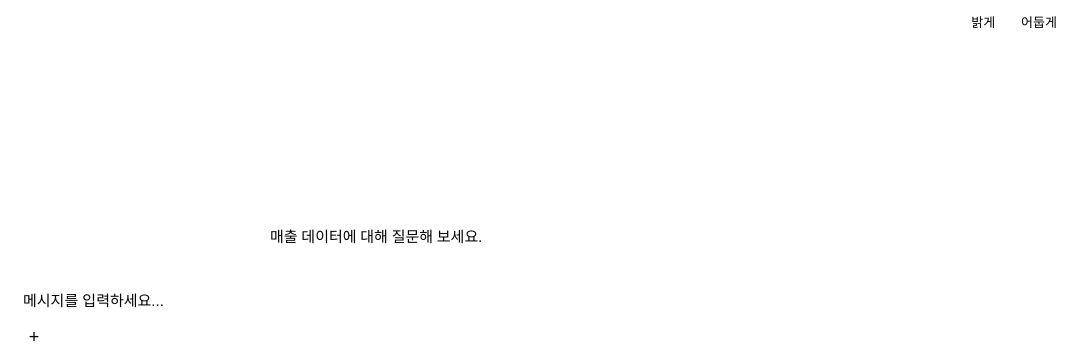
Test: Chat - 이메일 발송 버튼 › 200 성공 시 성공 상태로 전환된다
Type "질문" into the field with placeholder "메시지를 입력하세요..." at point(379, 300), box [19,288,739,313]
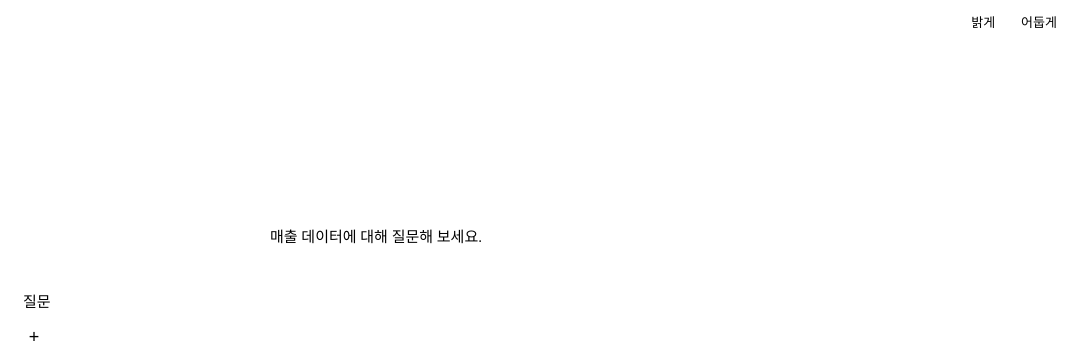
Press Enter in the field with placeholder "메시지를 입력하세요...", box [19,288,739,313]
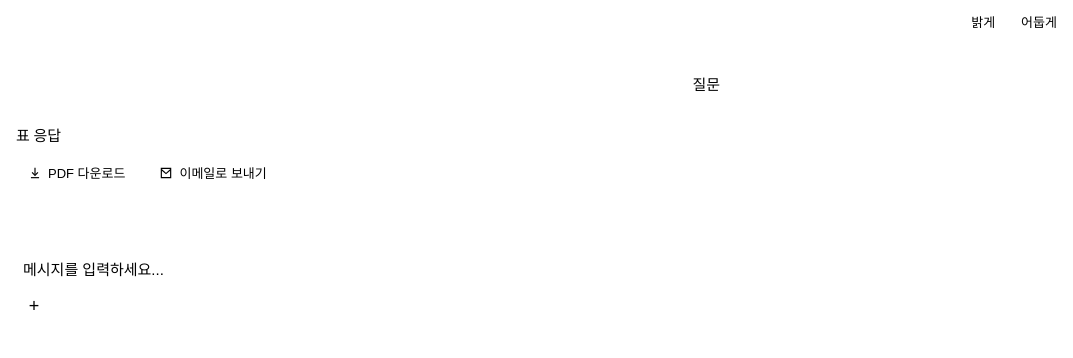
Click the button "이메일로 보내기" at point(213, 172), box [148,158,279,187]
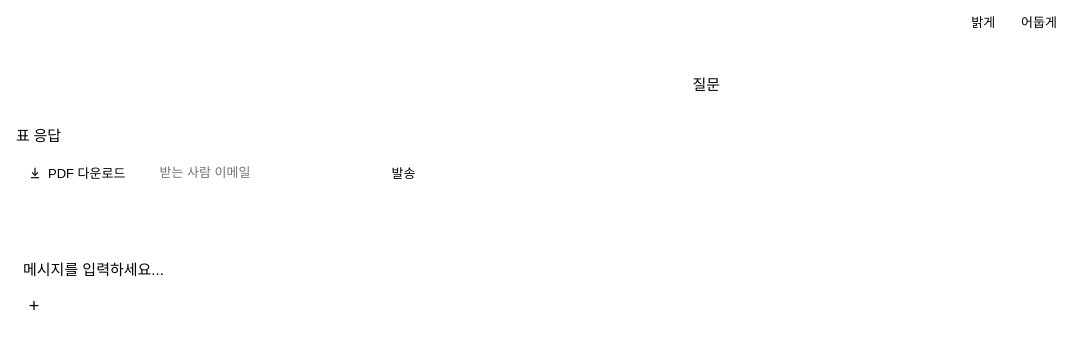
Type "user@company.com" into the field with placeholder "받는 사람 이메일" at point(260, 172), box [148,160,372,185]
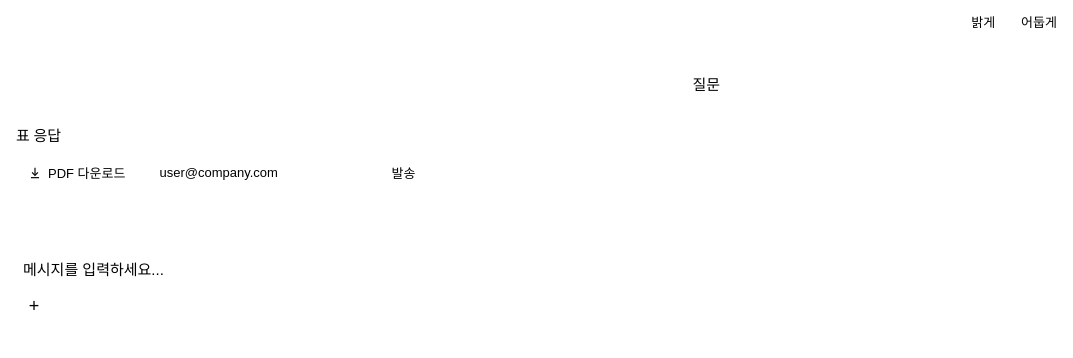
Click the button "발송" at point(403, 172), box [380,158,427,187]
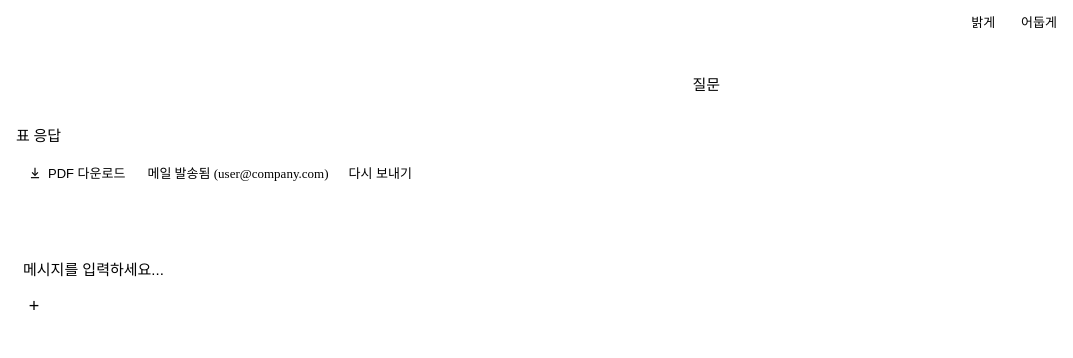
Check: the text "메일 발송됨 (user@company.com)" is shown, box [148,163,329,182]
